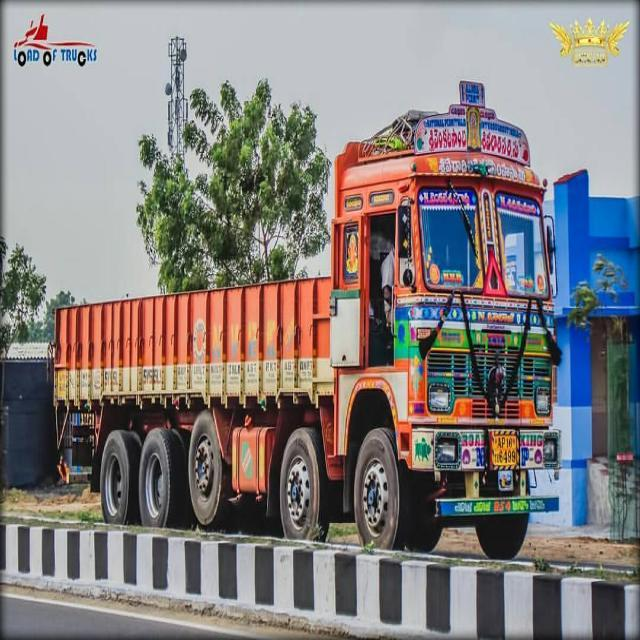Truck: (45, 76, 564, 552)
